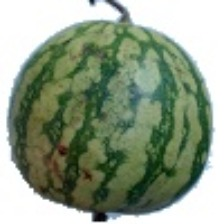watermelon: (0, 17, 198, 177)
